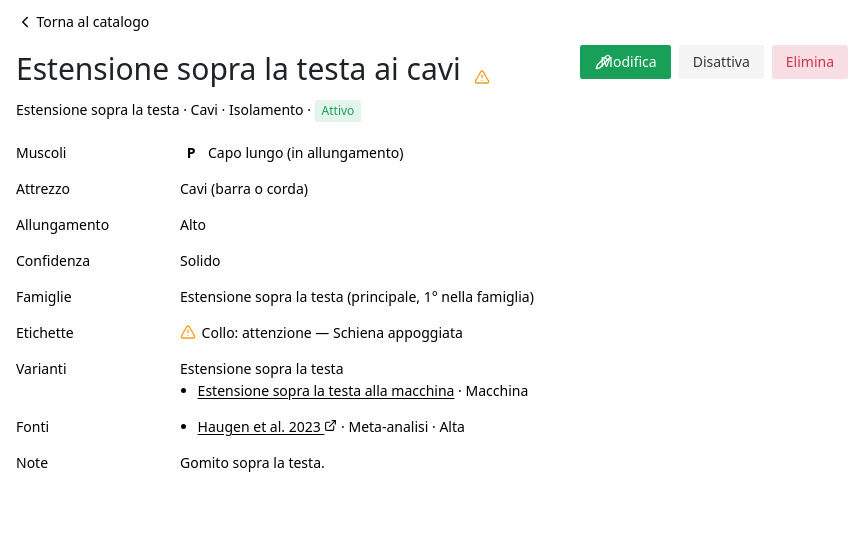
Test: ExerciseDetailPage › dalle varianti si passa al loro dettaglio (US-02 CA2)
Click the link "Estensione sopra la testa alla macchina".
click(326, 391)  # box [198,381,454,400]
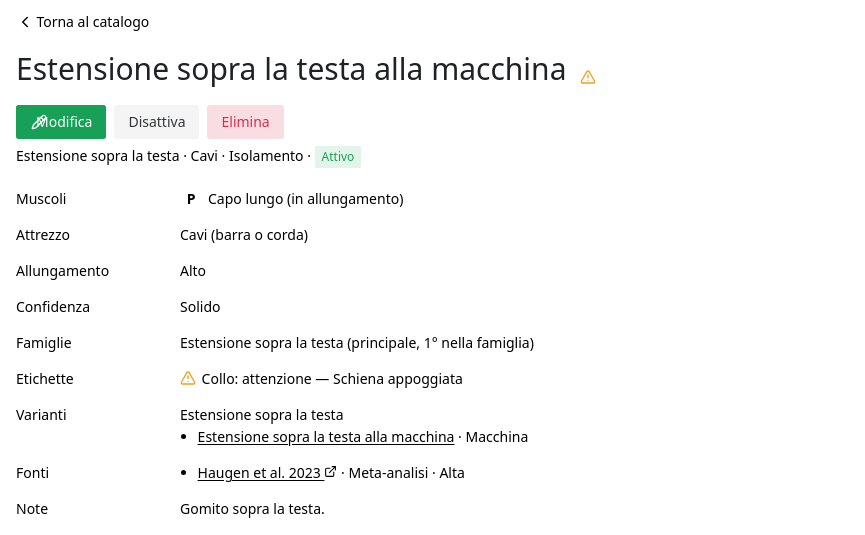
Result: the heading "Estensione sopra la testa alla macchina" is shown at [16,45,596,93]
